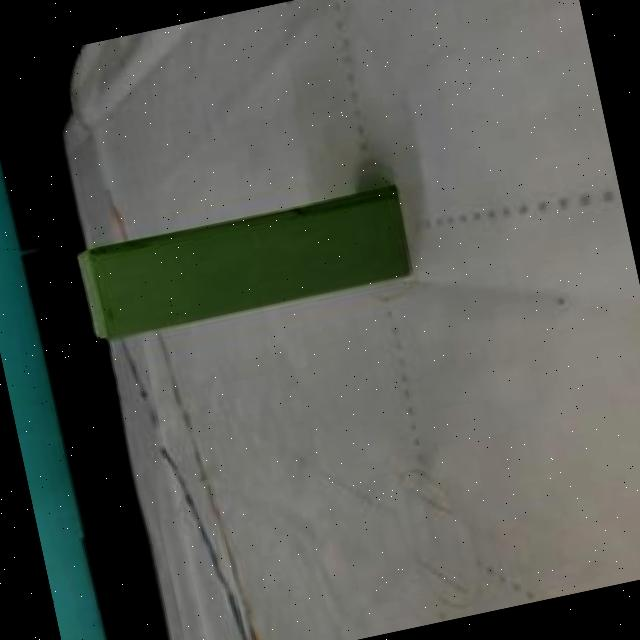greenbox: (70, 180, 417, 346)
